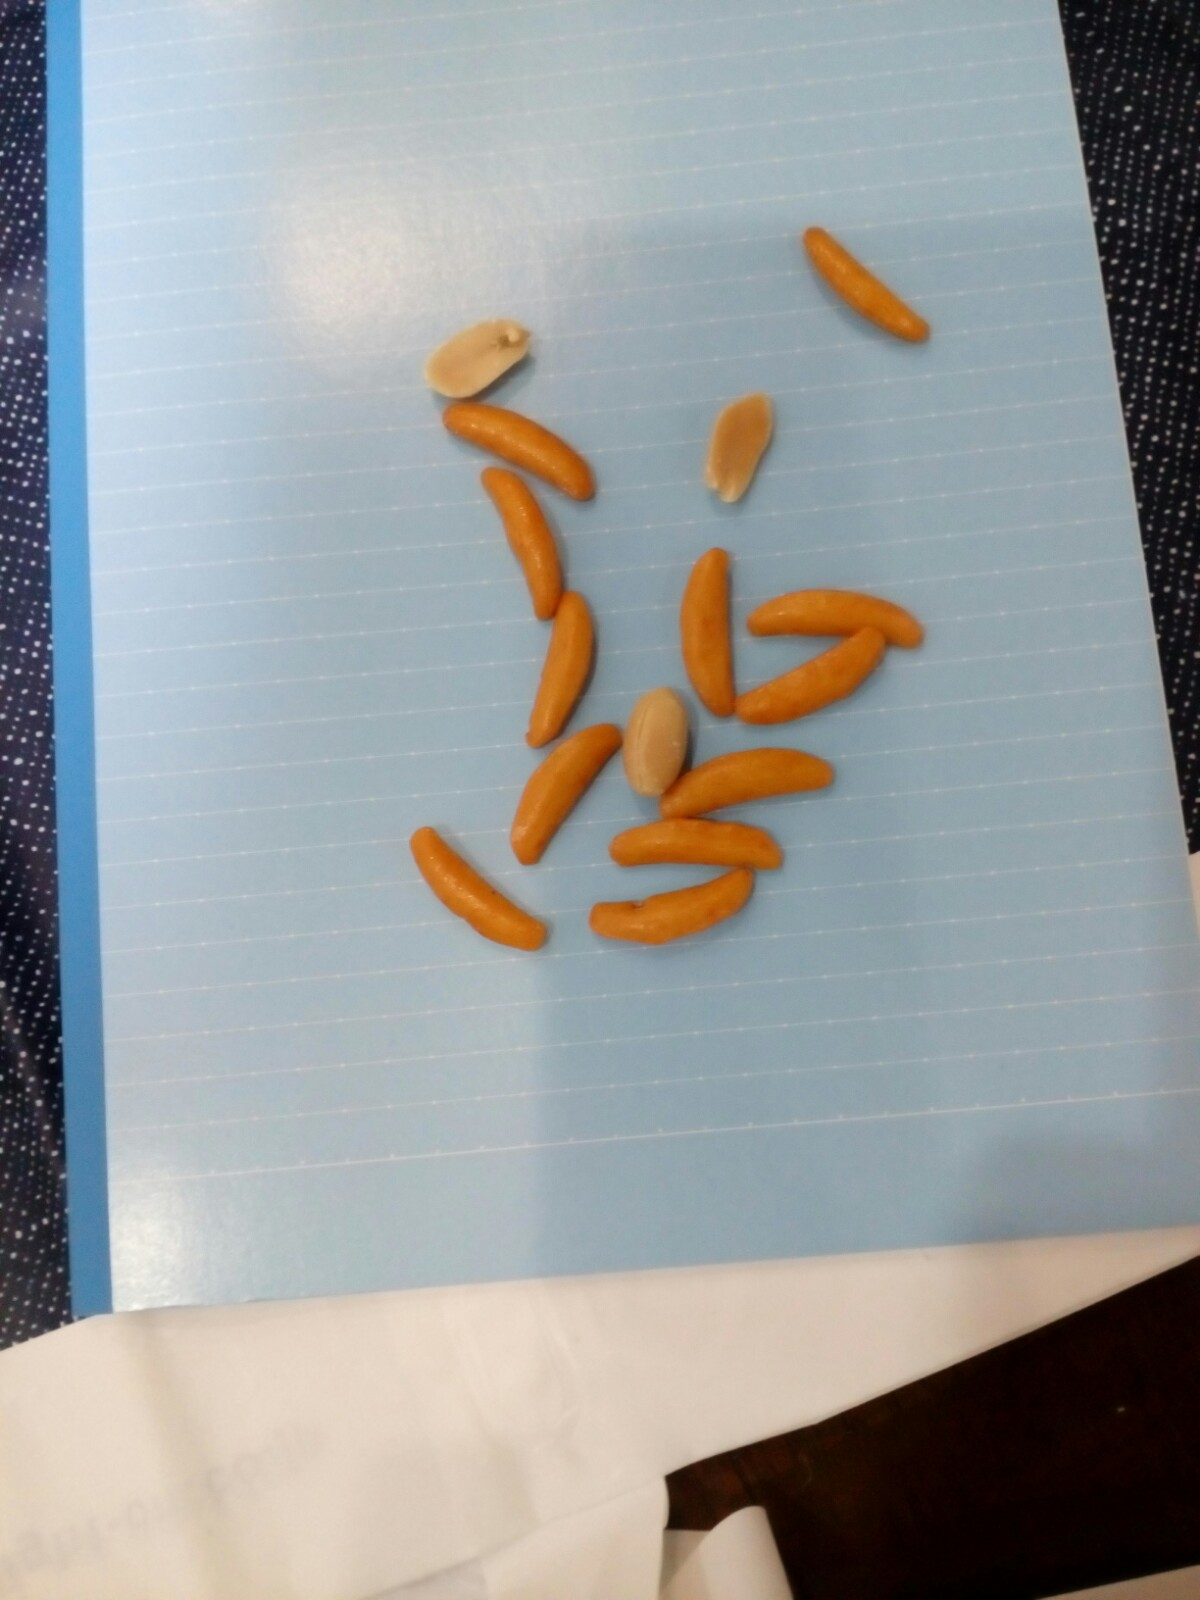peanut: (418, 312, 556, 409), (692, 384, 794, 514), (620, 677, 701, 810)
